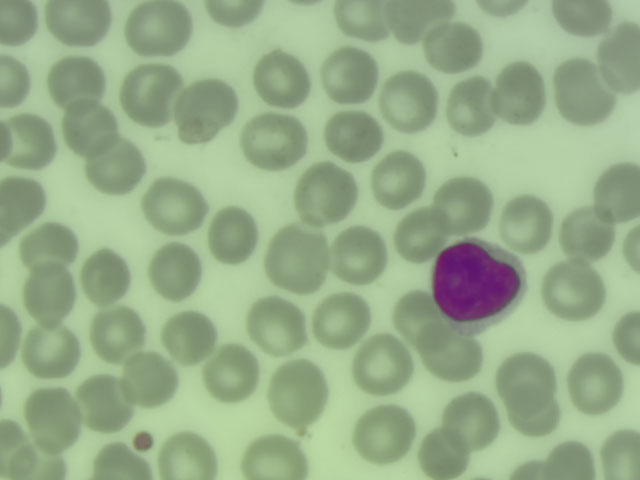Platelets: (131, 427, 155, 456)
RBC: (125, 1, 194, 55), (238, 431, 311, 480), (37, 1, 112, 47), (159, 431, 216, 480), (595, 162, 640, 224), (416, 428, 467, 480), (383, 1, 456, 37), (208, 209, 259, 260), (359, 409, 410, 460), (360, 340, 411, 391), (314, 294, 365, 345), (273, 367, 324, 418), (253, 301, 304, 352), (206, 347, 257, 398), (162, 312, 213, 363), (394, 211, 445, 262), (442, 178, 493, 229), (371, 153, 422, 204), (301, 167, 352, 218), (329, 110, 380, 161), (558, 66, 609, 117), (491, 68, 542, 119), (447, 81, 498, 132), (384, 75, 435, 126), (426, 21, 477, 72), (325, 51, 376, 102), (249, 116, 300, 167), (257, 53, 308, 104), (182, 85, 233, 136), (127, 70, 178, 121), (86, 138, 137, 189), (65, 102, 116, 153), (48, 58, 99, 109), (126, 355, 177, 406), (78, 379, 129, 430), (91, 307, 142, 358), (81, 249, 132, 300), (31, 393, 82, 444), (21, 326, 72, 377), (24, 266, 75, 317), (3, 115, 54, 166), (566, 357, 617, 408), (546, 262, 597, 313), (562, 207, 613, 258), (501, 200, 552, 251), (511, 390, 562, 441), (500, 349, 551, 400), (427, 332, 478, 383), (390, 290, 441, 341), (335, 228, 386, 279), (146, 180, 197, 231), (147, 248, 198, 299), (269, 234, 320, 285), (598, 419, 640, 480), (1, 177, 51, 228), (601, 27, 640, 91), (447, 395, 499, 443), (11, 437, 68, 480), (334, 1, 395, 39), (548, 1, 611, 36), (23, 225, 71, 270), (202, 1, 267, 33), (611, 302, 640, 372), (93, 445, 146, 480), (1, 52, 35, 106), (546, 440, 589, 480), (1, 1, 36, 42), (1, 307, 23, 364)
WBC: (433, 236, 523, 326)
